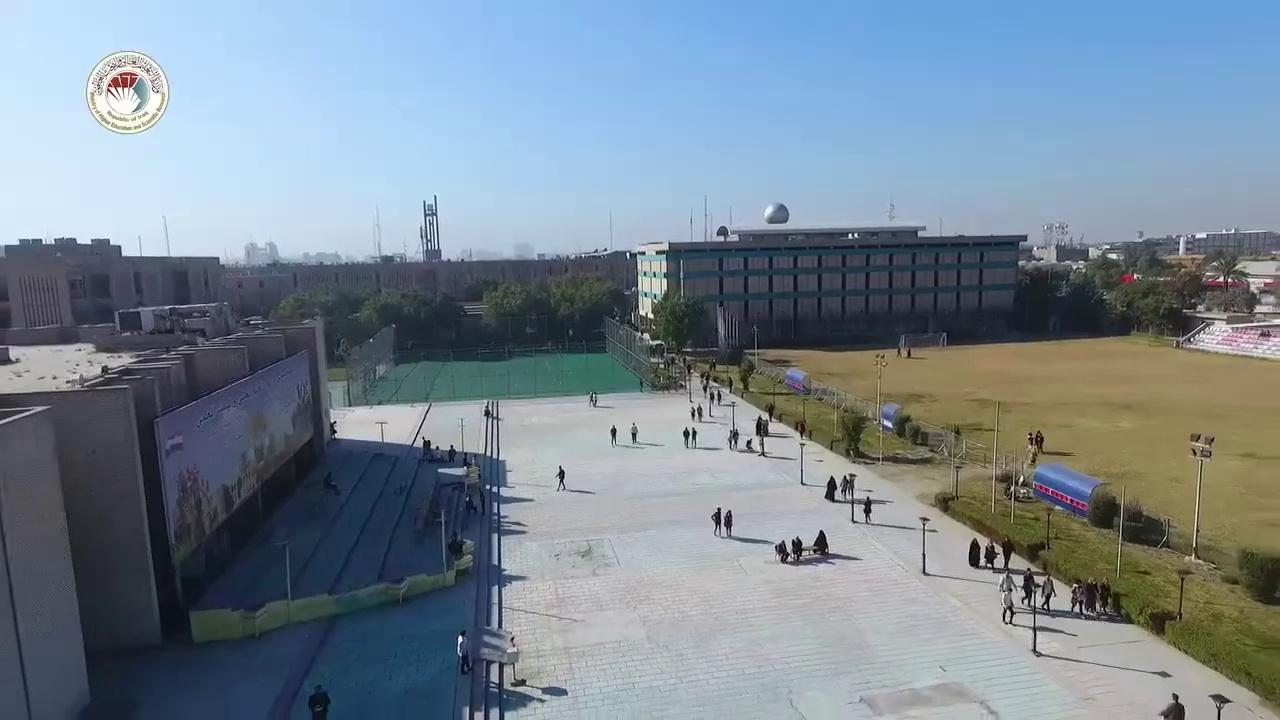car: (239, 315, 265, 326)
person: (307, 684, 330, 719), (1158, 692, 1185, 719), (457, 629, 472, 674), (447, 530, 463, 560), (323, 470, 340, 495), (555, 465, 566, 491), (863, 496, 872, 523), (609, 424, 617, 446), (329, 420, 338, 439), (630, 422, 638, 443)
tree: (479, 270, 616, 346), (542, 270, 612, 341), (1102, 277, 1177, 334), (650, 288, 705, 355), (1012, 266, 1065, 332), (480, 280, 529, 337), (1236, 546, 1279, 603), (424, 294, 465, 344), (1166, 264, 1207, 310), (360, 287, 405, 327), (1081, 251, 1123, 289), (1086, 484, 1118, 529), (840, 411, 869, 457), (1174, 566, 1193, 619), (1121, 496, 1145, 526), (737, 352, 754, 391), (892, 410, 911, 438), (765, 402, 775, 421)
